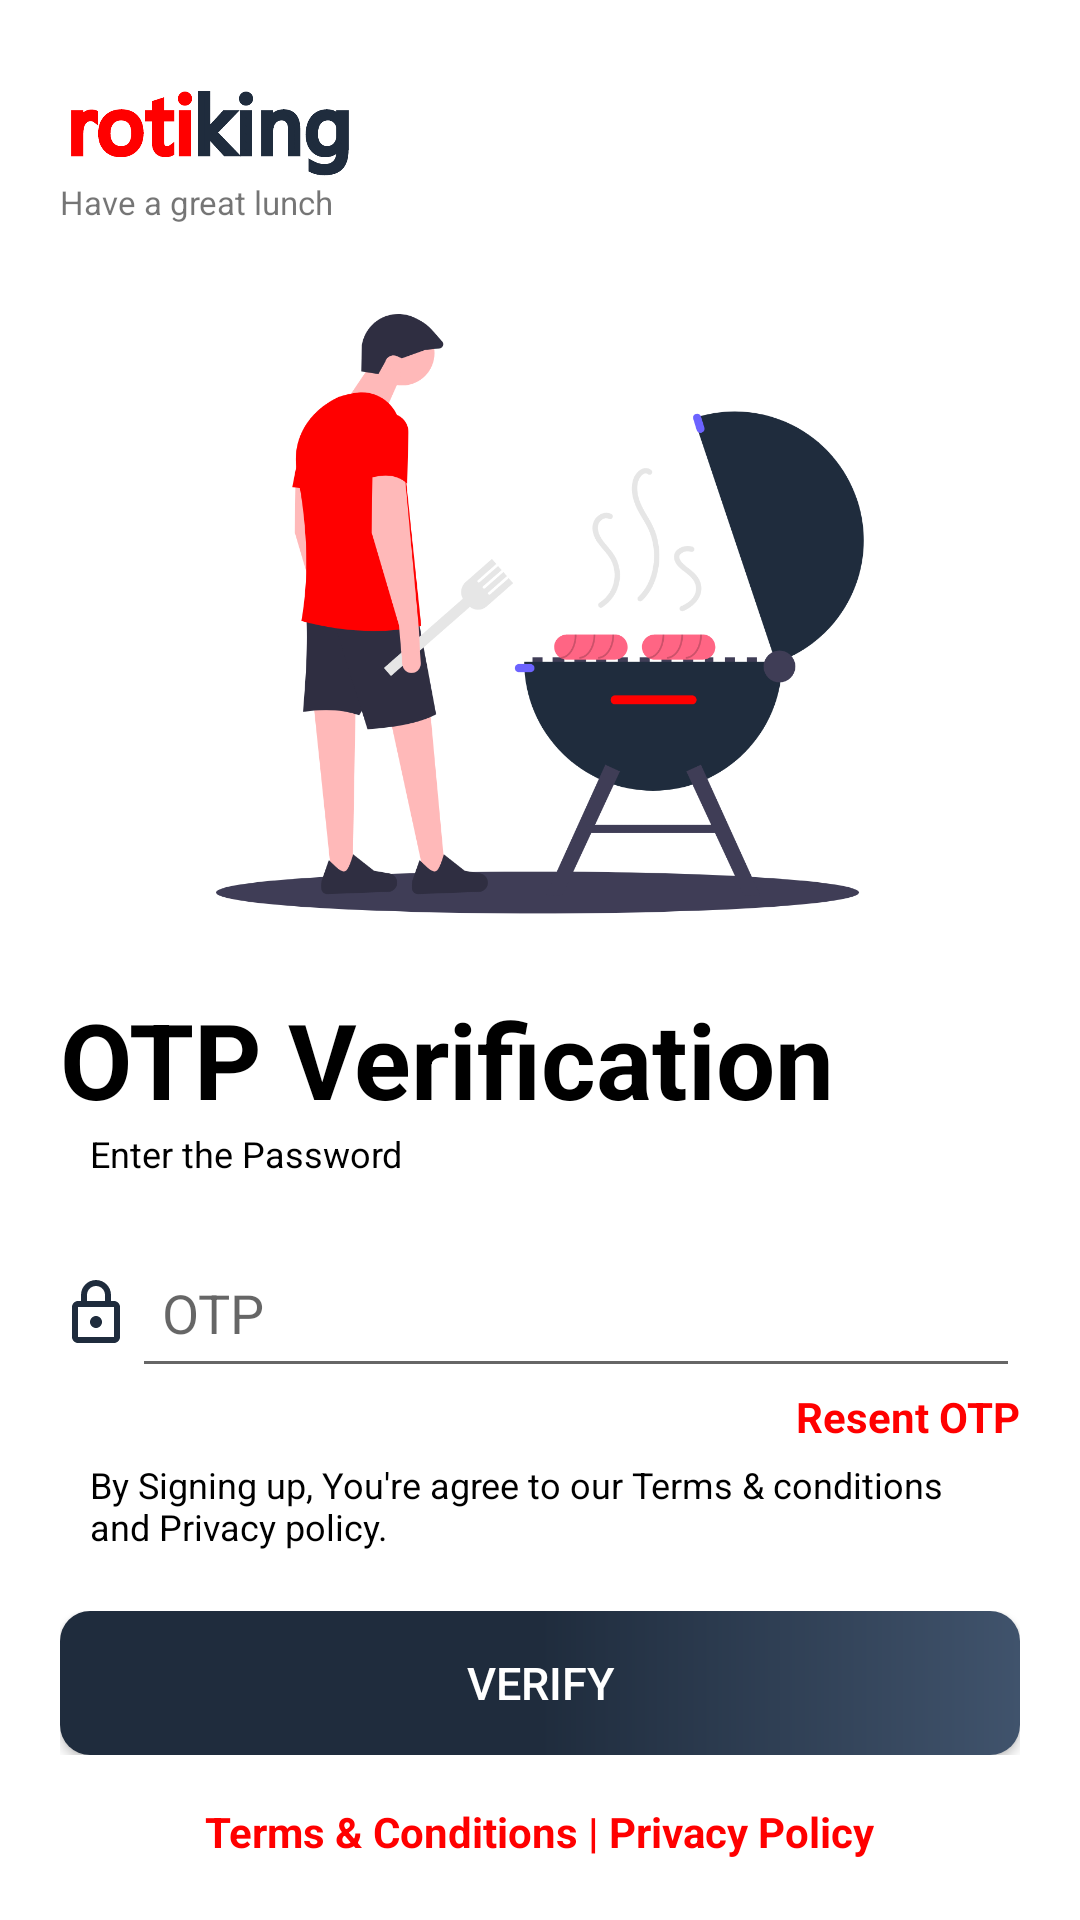

Icons on this 1080x1920 Android screen, each with its box as bbox=(x1, y1, x2, y2):
lock: bbox=(72, 1280, 120, 1343)
